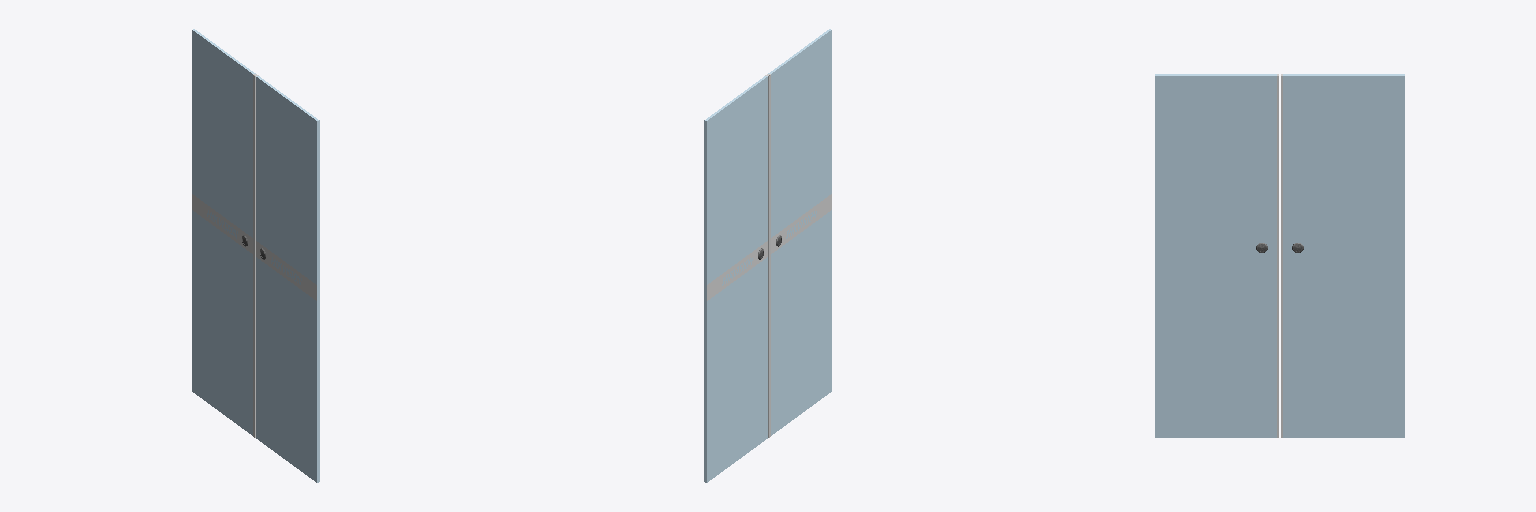
3 renders of one model, left to right at view 1: azimuth 30°, elevation 25°; view 2: azimuth 150°, elevation 25°; view 3: azimuth 270°, elevation 25°, orthographic.
Visible parts, largest first — view 1: men_boli_02, men_boli_01, men_pensha_01, men_pensha_02, men_jiao_02; view 2: men_boli_01, men_boli_02, men_pensha_02, men_pensha_01, men_jiao_01; view 3: men_boli_01, men_boli_02, men_jiao_01, men_jiao_02.
Boxes of the visible parts, x1=… form: men_boli_02: x1=256, y1=76, x2=319, y2=482; men_boli_01: x1=192, y1=29, x2=255, y2=435; men_pensha_01: x1=192, y1=194, x2=252, y2=253; men_pensha_02: x1=256, y1=241, x2=316, y2=300; men_jiao_02: x1=254, y1=75, x2=258, y2=437; men_boli_01: x1=704, y1=76, x2=767, y2=482; men_boli_02: x1=768, y1=29, x2=831, y2=435; men_pensha_02: x1=771, y1=194, x2=831, y2=253; men_pensha_01: x1=707, y1=241, x2=767, y2=300; men_jiao_01: x1=765, y1=75, x2=769, y2=437; men_boli_01: x1=1283, y1=74, x2=1404, y2=437; men_boli_02: x1=1155, y1=74, x2=1276, y2=437; men_jiao_01: x1=1281, y1=74, x2=1282, y2=437; men_jiao_02: x1=1277, y1=74, x2=1278, y2=437.
Size of the model in its own units: 3.3 by 200 by 125.
4 materials, 2 textured.